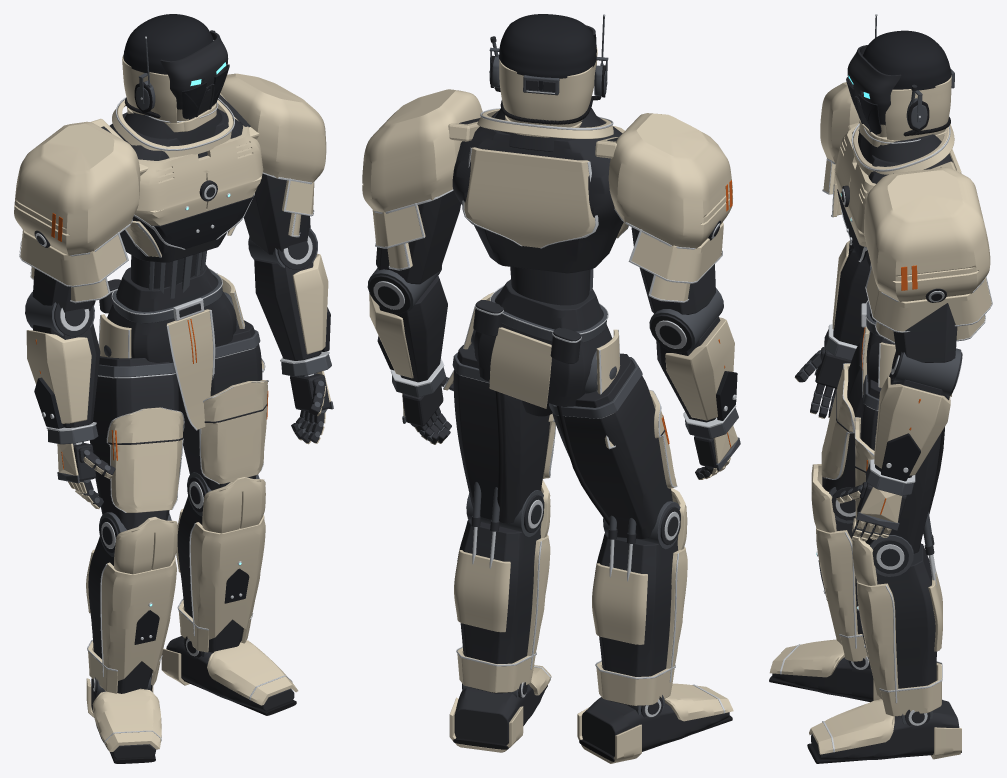
Rendered from paladin.glb.
3 views of the same model, side by side, from view 1: azimuth 30°, elevation 25°; view 2: azimuth 150°, elevation 25°; view 3: azimuth 270°, elevation 25° (orthographic). The views are drawn at different scales.
Parts seen in each view (by area): view 1: pauldron_r, chest, pauldron_l, thigh_R_thigh_shell, shin_R_shin_shell, shin_L_shin_shell, thigh_L_thigh_shell, thigh_R_thigh_core, pelvis_core, arm_R_fore_shell, cap, tasset (+41 smaller); view 2: pauldron_r, thigh_R_thigh_core, back, thigh_L_thigh_core, pauldron_l, torso_core, shin_R_shin_core, shin_L_shin_core, pelvis_core, cap, arm_R_fore_shell, foot_R_foot_core (+37 smaller); view 3: pauldron_l, shin_L_shin_core, arm_L_fore_shell, cap, shin_L_shin_shell, shin_R_shin_shell, thigh_L_thigh_core, pauldron_l_flare, foot_L_foot_core, foot_L_toe_cap, arm_L_upper_body, arm_R_fore_body (+33 smaller).
Boxes of the visible parts, x1=… form: pauldron_r: x1=14, y1=121, x2=140, y2=255; chest: x1=134, y1=126, x2=263, y2=225; pauldron_l: x1=220, y1=73, x2=326, y2=182; thigh_R_thigh_shell: x1=107, y1=407, x2=183, y2=512; shin_R_shin_shell: x1=101, y1=557, x2=176, y2=680; shin_L_shin_shell: x1=190, y1=515, x2=265, y2=639; thigh_L_thigh_shell: x1=201, y1=380, x2=267, y2=483; thigh_R_thigh_core: x1=90, y1=356, x2=178, y2=530; pelvis_core: x1=107, y1=264, x2=236, y2=374; arm_R_fore_shell: x1=26, y1=330, x2=91, y2=423; cap: x1=123, y1=14, x2=213, y2=74; tasset: x1=166, y1=309, x2=212, y2=429; pauldron_r: x1=608, y1=113, x2=732, y2=248; thigh_R_thigh_core: x1=552, y1=353, x2=672, y2=539; back: x1=464, y1=147, x2=595, y2=247; thigh_L_thigh_core: x1=453, y1=344, x2=549, y2=523; pauldron_l: x1=362, y1=89, x2=482, y2=212; torso_core: x1=452, y1=110, x2=623, y2=273; shin_R_shin_core: x1=595, y1=532, x2=677, y2=706; shin_L_shin_core: x1=457, y1=519, x2=540, y2=693; pelvis_core: x1=474, y1=279, x2=612, y2=406; cap: x1=499, y1=14, x2=596, y2=78; arm_R_fore_shell: x1=665, y1=317, x2=734, y2=420; foot_R_foot_core: x1=582, y1=697, x2=729, y2=756; pauldron_l: x1=864, y1=167, x2=990, y2=301; shin_L_shin_core: x1=876, y1=543, x2=936, y2=688; arm_L_fore_shell: x1=874, y1=376, x2=950, y2=475; cap: x1=863, y1=30, x2=951, y2=90; shin_L_shin_shell: x1=856, y1=580, x2=898, y2=699; shin_R_shin_shell: x1=816, y1=527, x2=857, y2=644; thigh_L_thigh_core: x1=860, y1=379, x2=941, y2=553; pauldron_l_flare: x1=866, y1=268, x2=991, y2=331; foot_L_foot_core: x1=811, y1=699, x2=959, y2=760; foot_L_toe_cap: x1=809, y1=699, x2=894, y2=754; arm_L_upper_body: x1=893, y1=303, x2=957, y2=362; arm_R_fore_body: x1=833, y1=243, x2=869, y2=345.
Bounding box in the file's own units: 0.8024 × 1.71 × 0.4995.
